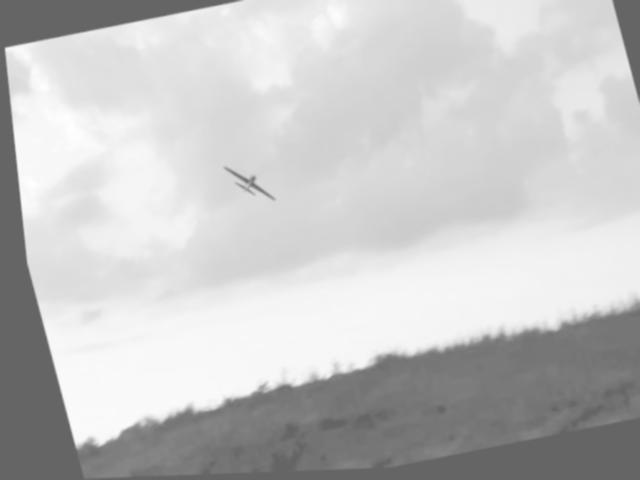hedef: (198, 140, 292, 231)
